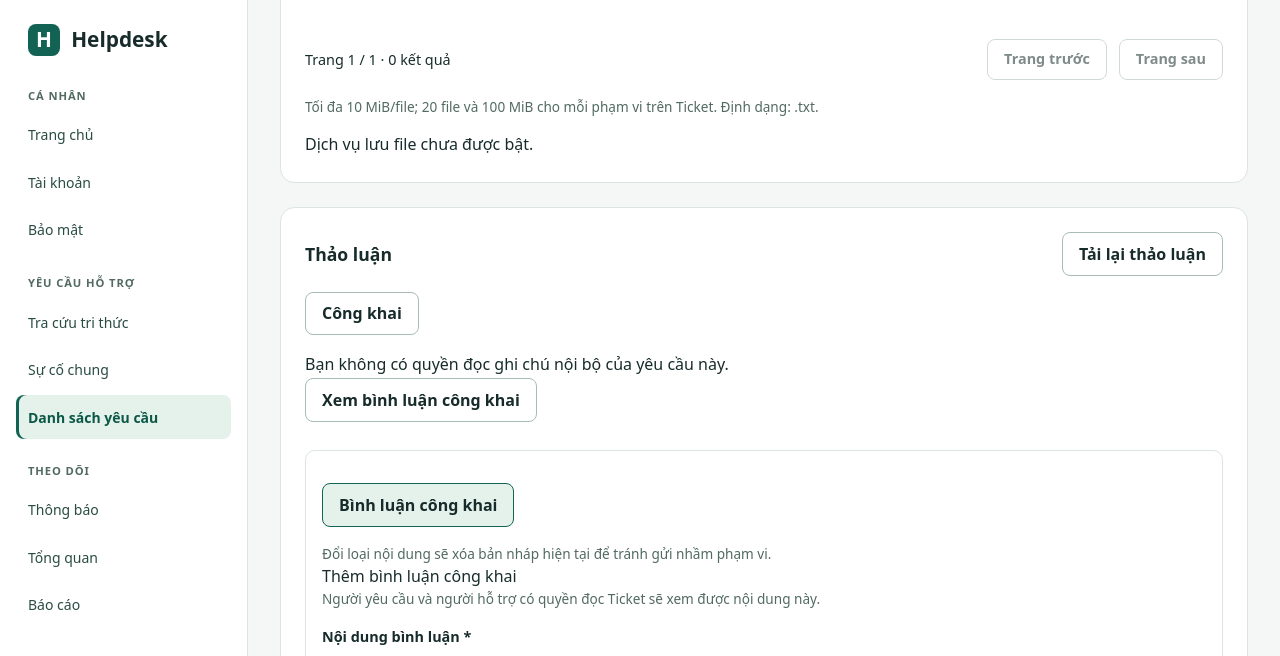
Test case: discussion ACL, visibility and cache isolation › blocks a requester internal deep link without issuing an internal read
(page scrolled)
expect the text "Bạn không có quyền đọc ghi chú nội bộ của yêu cầu này." is shown: met, box 305,353 -> 729,375
Click the button "Xem bình luận công khai" at (421, 400), box 305,378 -> 537,422
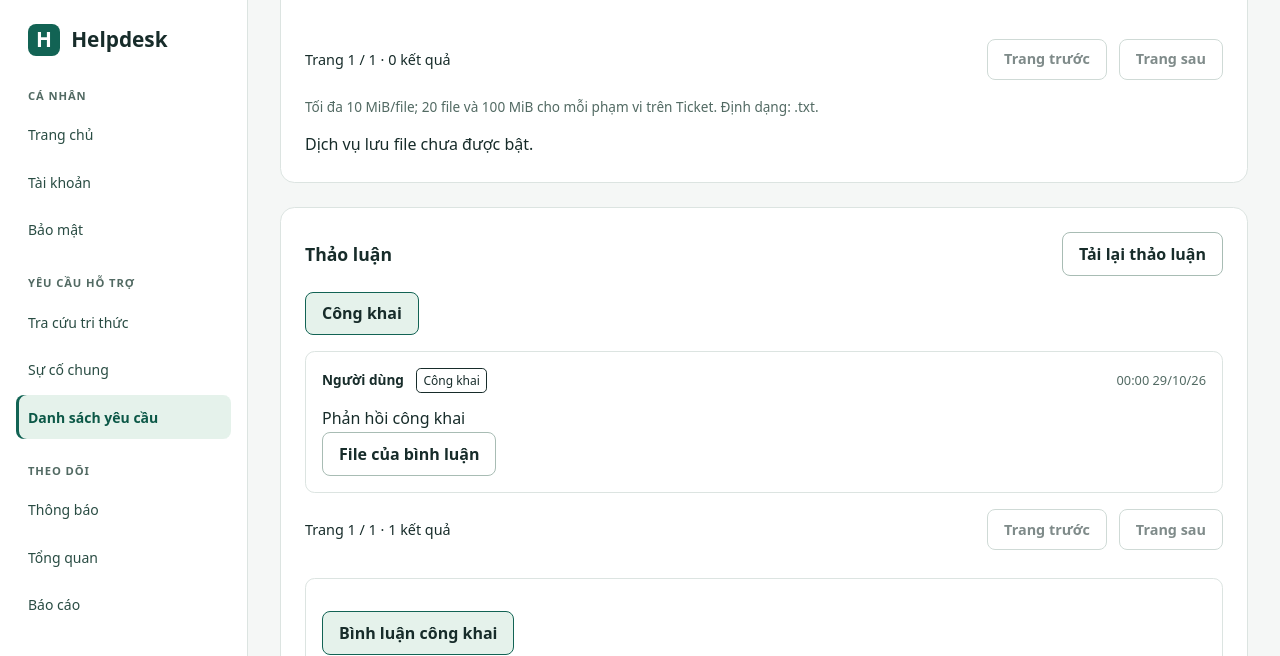
expect the text "Phản hồi công khai" is shown: met, box 322,407 -> 465,429
